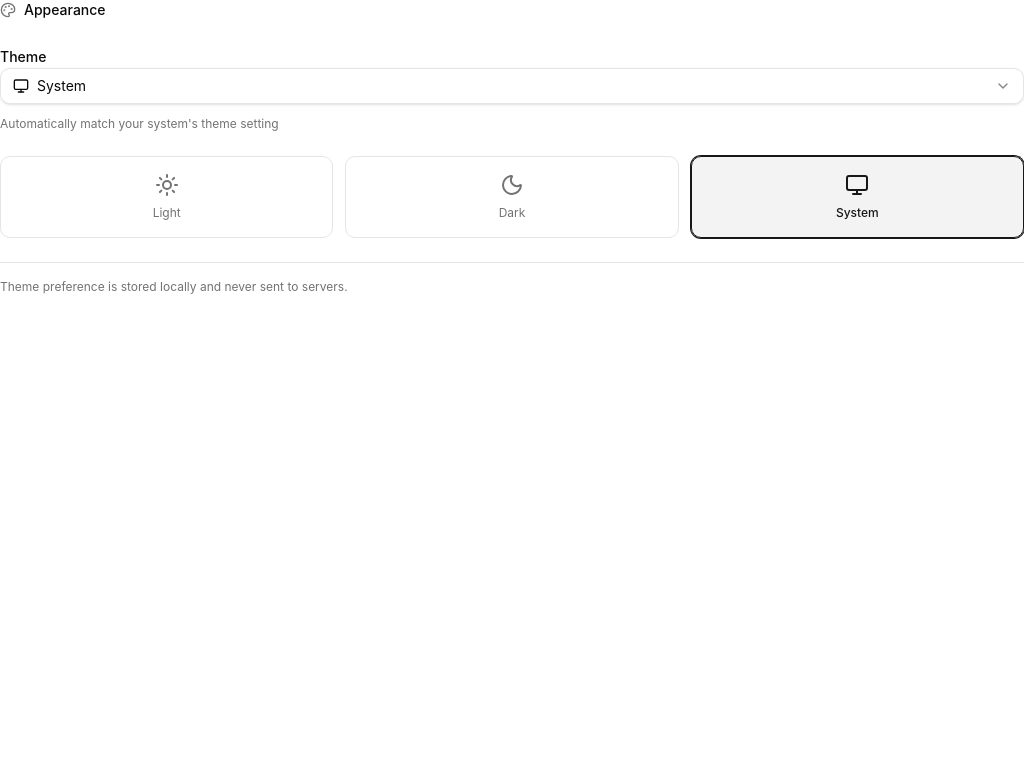
Test: ThemeSettings › theme selection via buttons › should switch to dark theme when dark button is clicked
Click the button "Dark": click(512, 197) [345, 156, 679, 238]
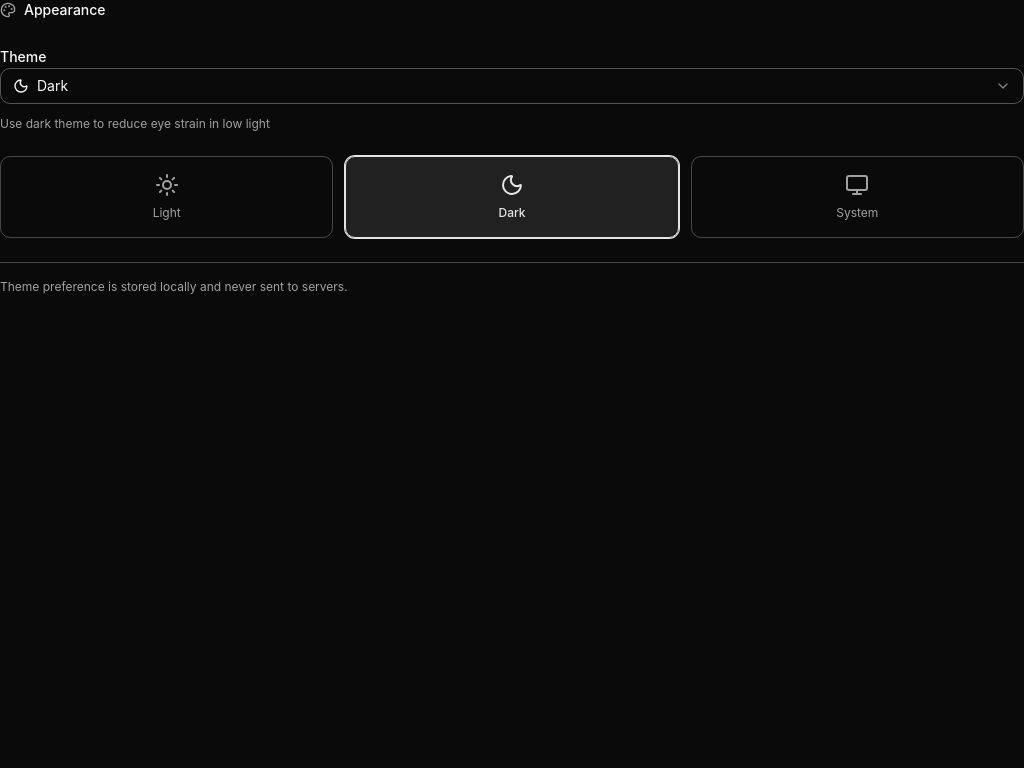
Now the text "Use dark theme to reduce eye strain in low light" is shown, box [0, 116, 270, 131]
